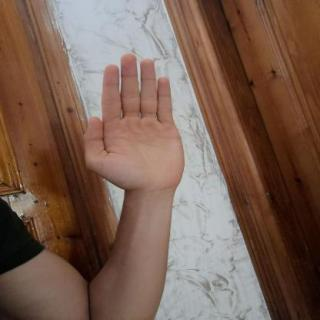SEEN: (74, 46, 191, 199)
